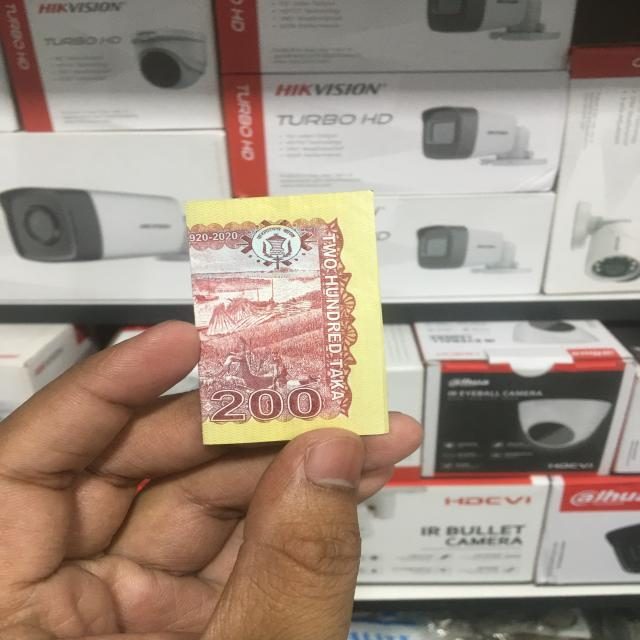Taka: (179, 192, 404, 441)
